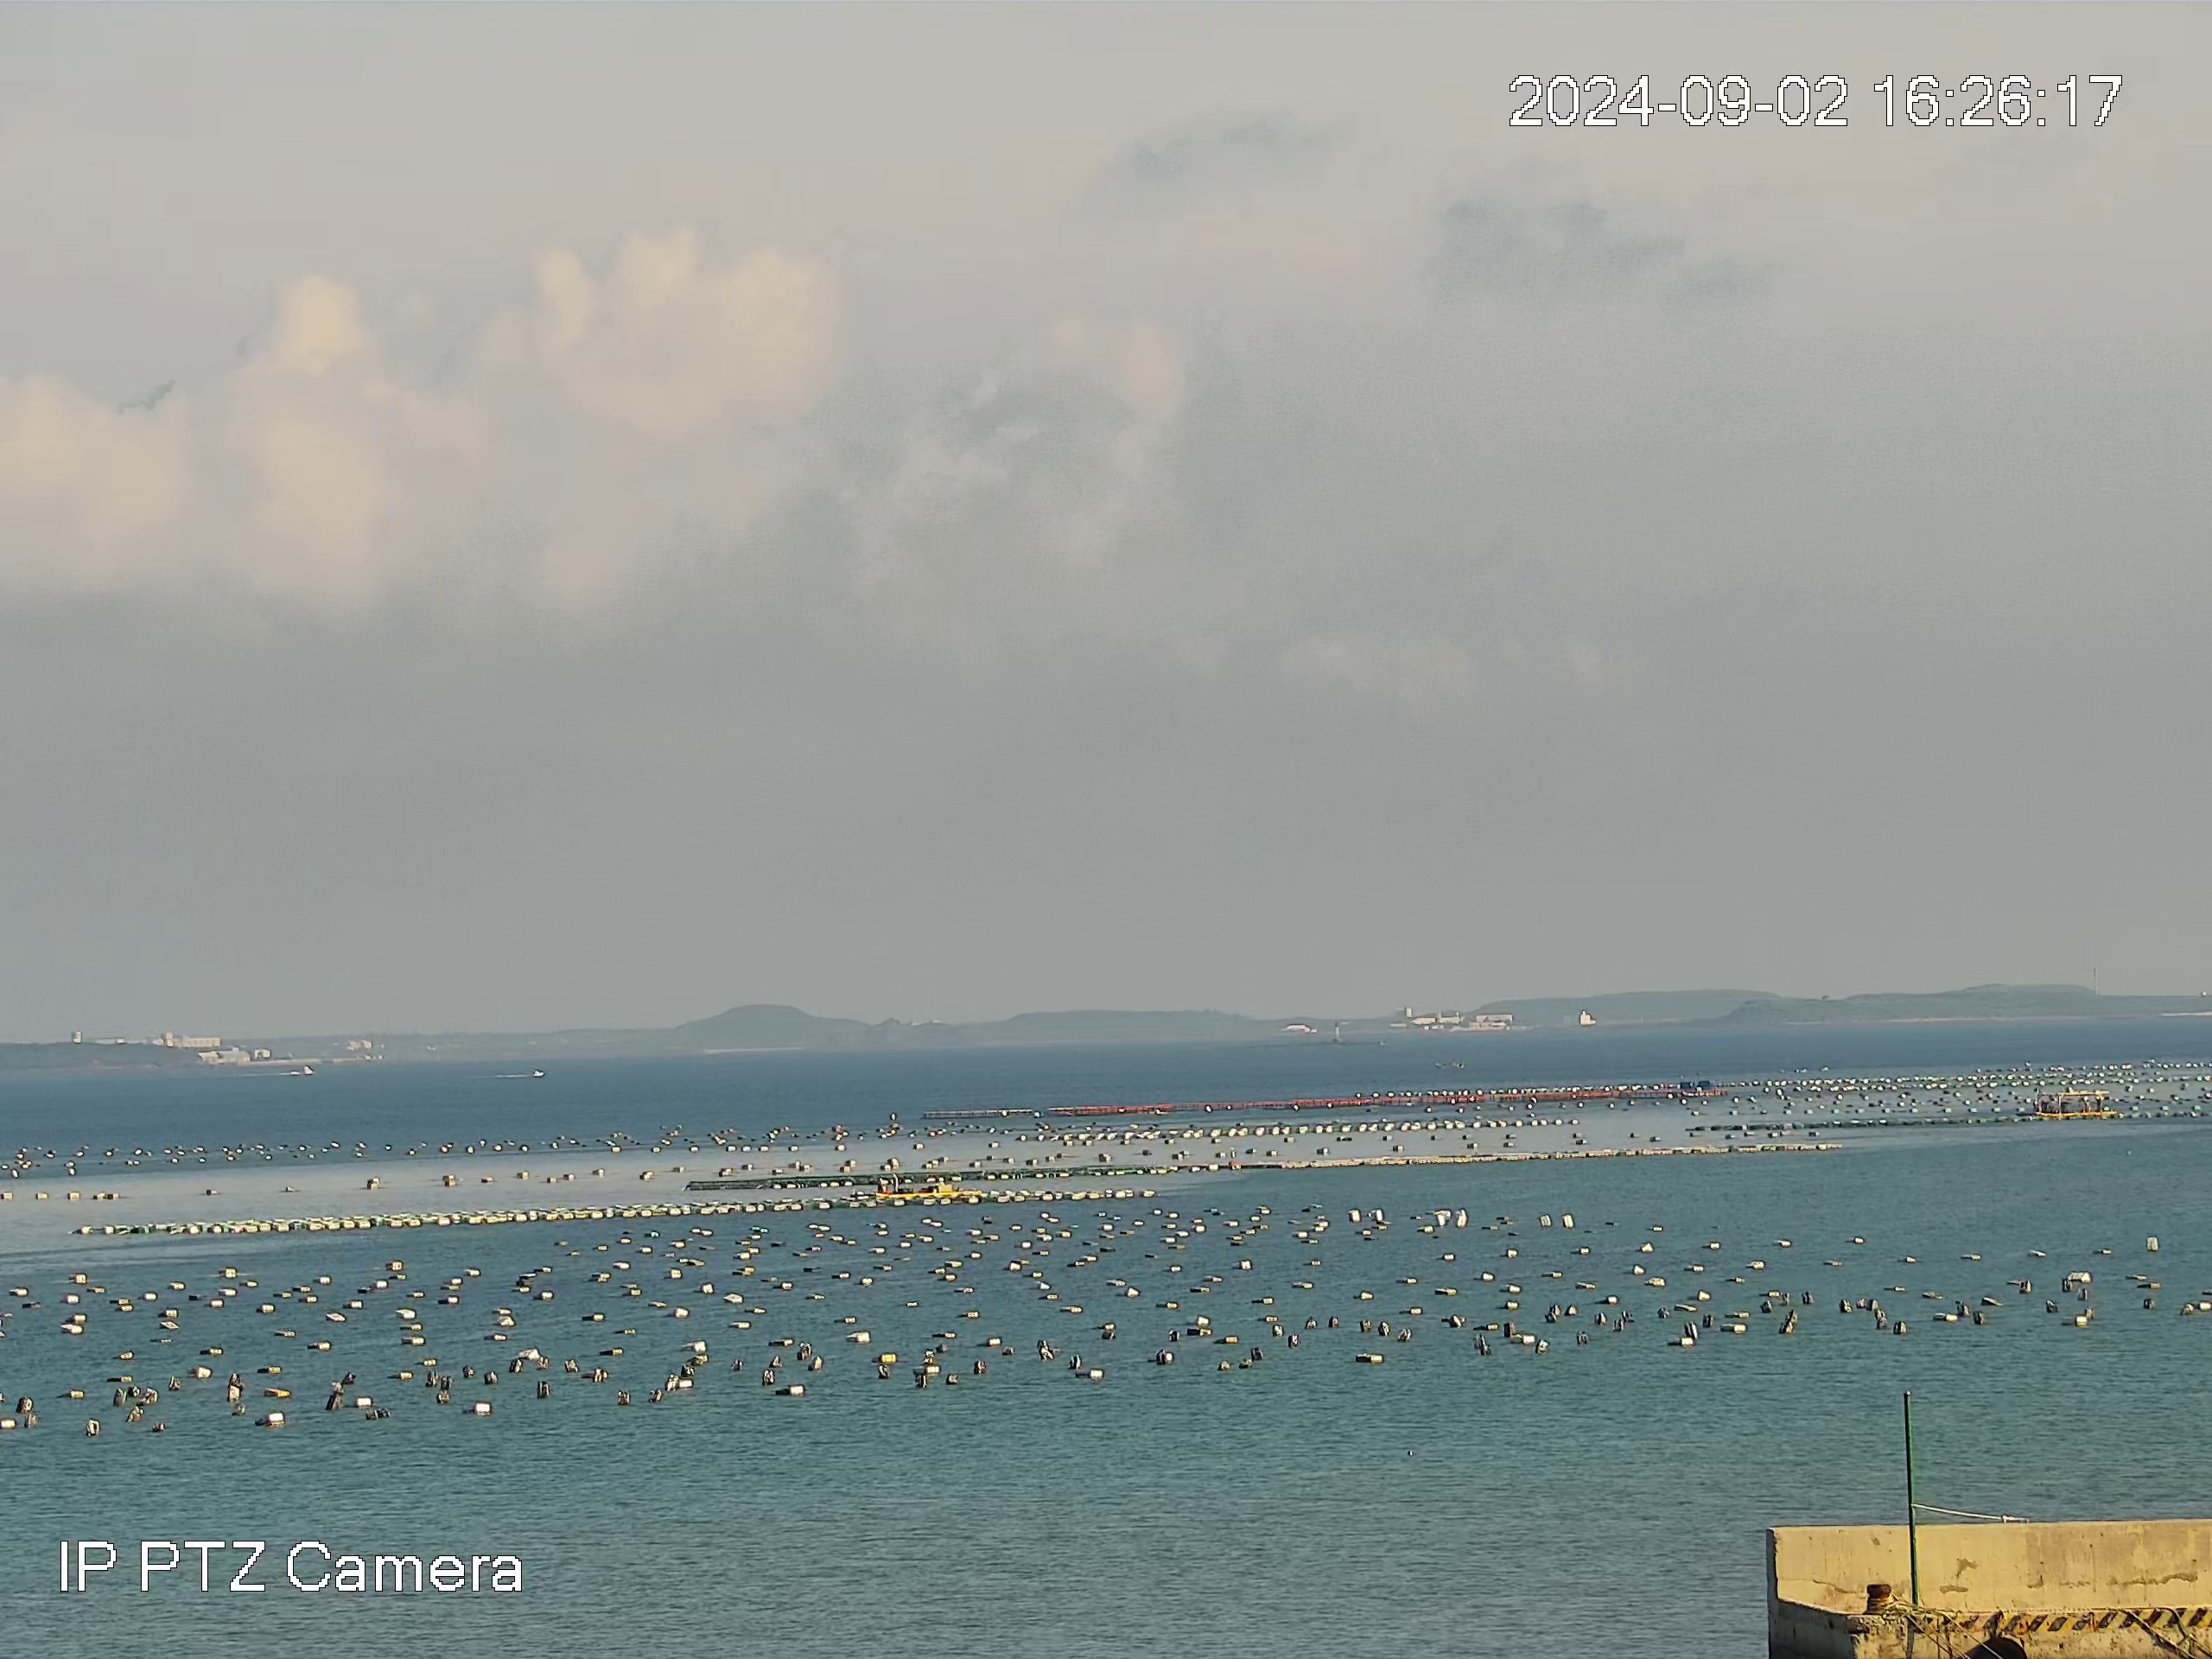boat: (2033, 1086, 2118, 1121), (874, 1173, 982, 1197)
